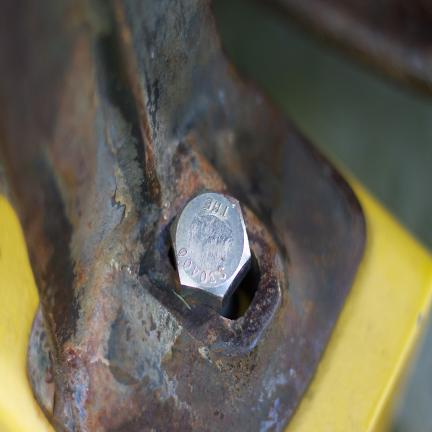besi_tidak_karat: (171, 189, 250, 310), (203, 198, 212, 211), (213, 202, 222, 214), (218, 267, 226, 279), (183, 259, 192, 269), (221, 206, 228, 218), (179, 248, 187, 257), (210, 271, 216, 283), (201, 272, 206, 282), (191, 267, 197, 275)
karat: (3, 10, 273, 421), (176, 57, 365, 400), (214, 245, 215, 248)
